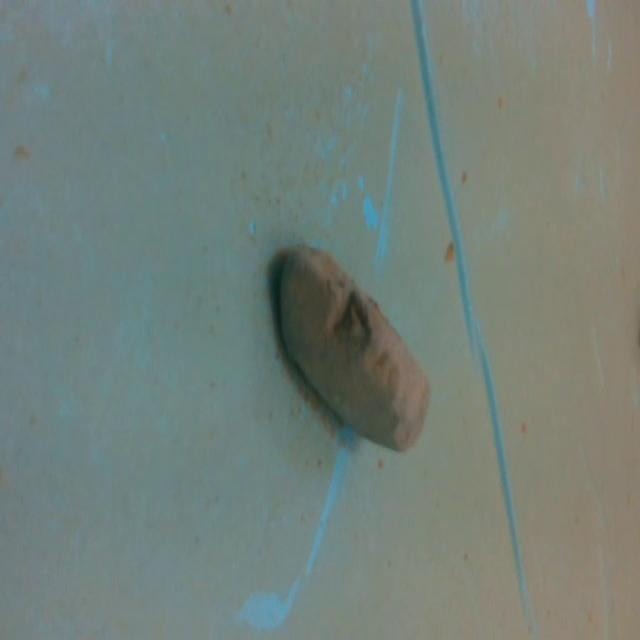rock: (264, 236, 436, 462)
